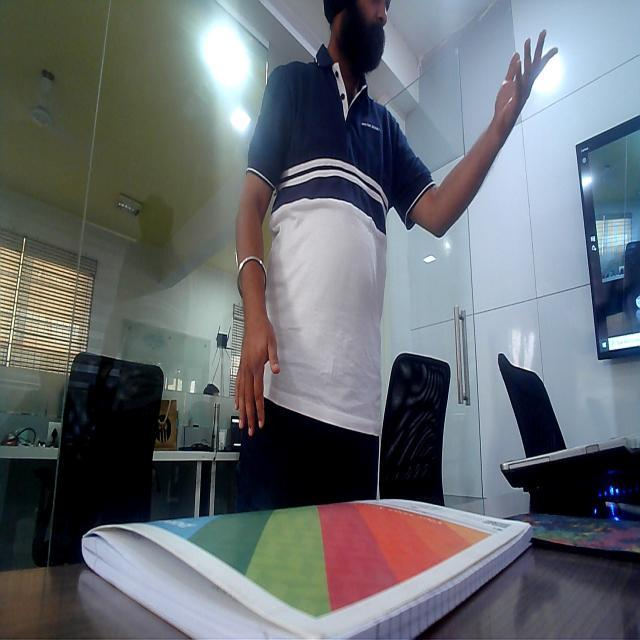without_gloves: (486, 23, 562, 150), (222, 309, 288, 419)
